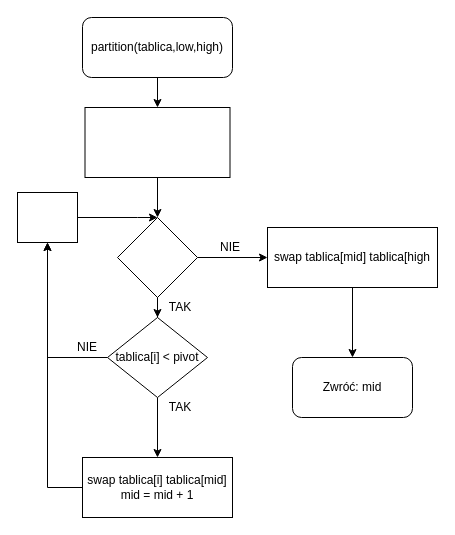
The diagram is 455 pixels wide and 535 high, and some of its shapes have lost their labels. The shapes that lost their labels are listed below. From the top down, each one's centre as x and y in pixels, then its label:
At [157,142]: "pivot = tablica[high] mid = low i = 0".
At [47,217]: "i = i + 1".
At [157,257]: "i < high".
